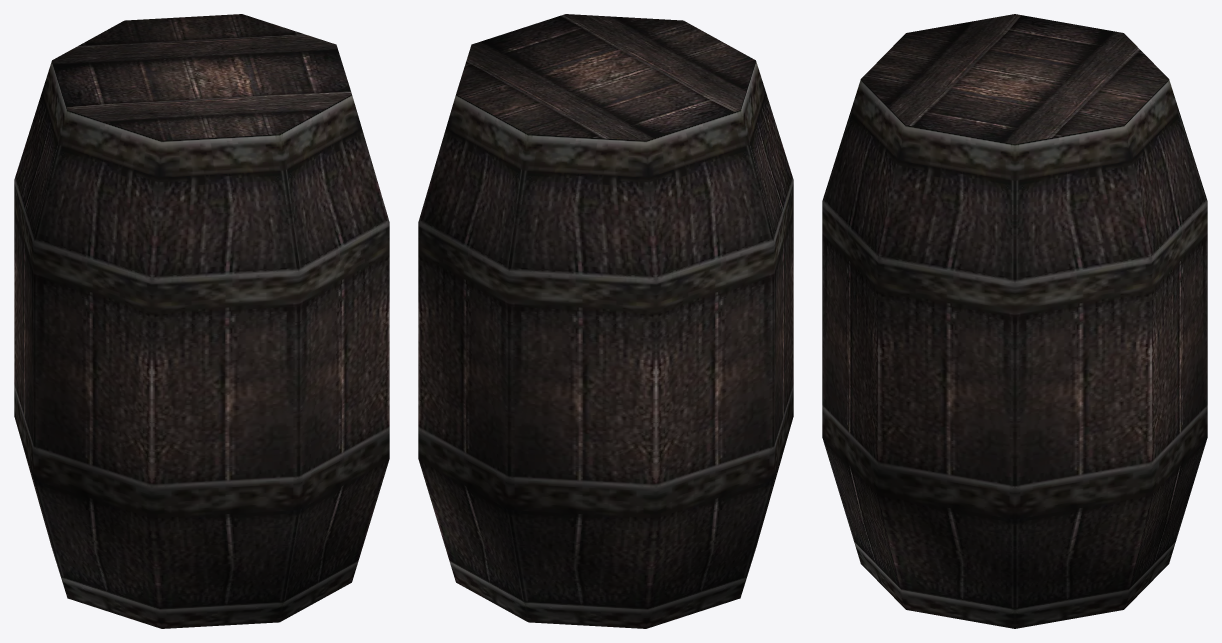
File: OC_BARREL_V1.glb
3 renders of one model, left to right at view 1: azimuth 30°, elevation 25°; view 2: azimuth 150°, elevation 25°; view 3: azimuth 270°, elevation 25°, orthographic.
Visible parts, largest first — view 1: Mesh; view 2: Mesh; view 3: Mesh.
Part boxes in pixels (bbox=[...]): Mesh: bbox=[14, 14, 389, 628]; Mesh: bbox=[418, 14, 793, 628]; Mesh: bbox=[822, 14, 1207, 628].
Size of the model in its own units: 0.7985 by 1.11 by 0.7985.
Materials: 1 (1 with a texture image).
